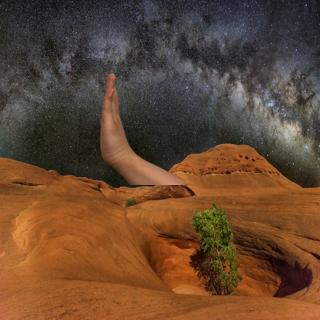RIGHT: (91, 66, 134, 171)
